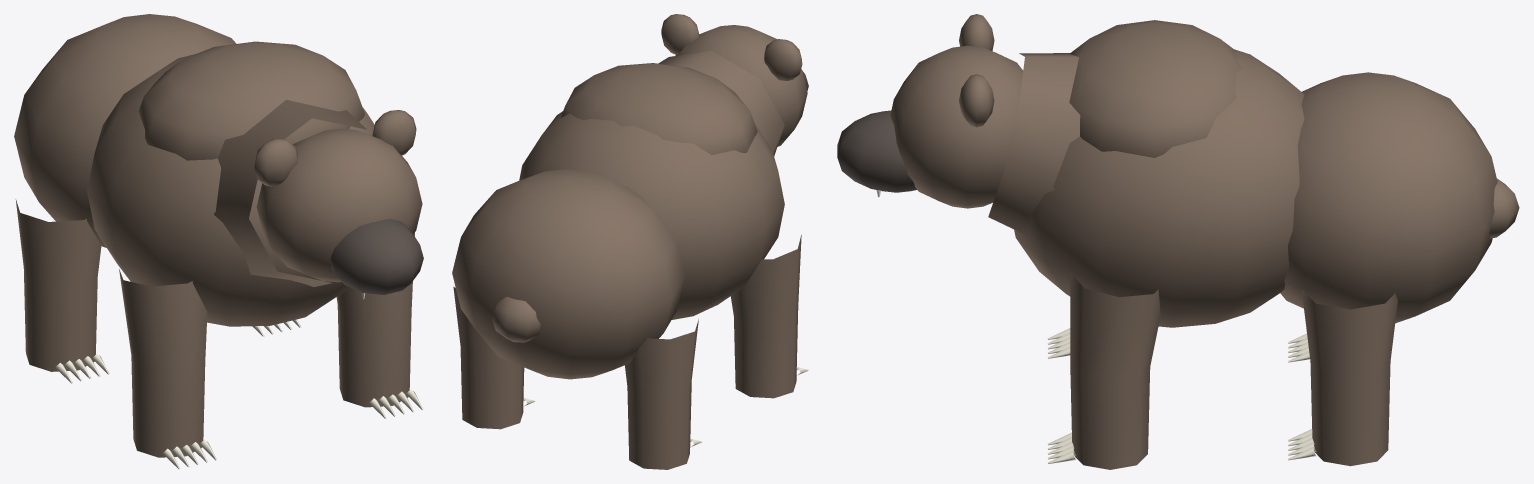
The model's file is bear.glb.
3 views of the same model, side by side, from view 1: azimuth 30°, elevation 25°; view 2: azimuth 150°, elevation 25°; view 3: azimuth 270°, elevation 25° (orthographic). The views are drawn at different scales.
Bounding box in the file's own units: 0.78 × 0.9019 × 1.53.
